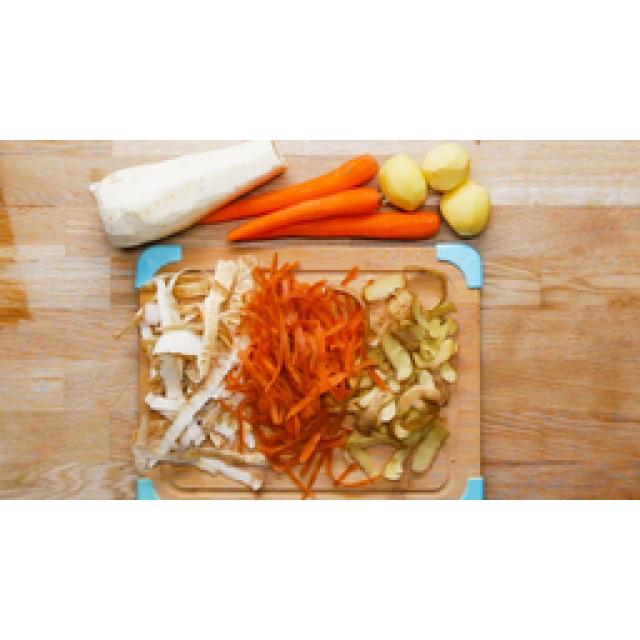food_waste: (130, 256, 455, 498), (95, 142, 488, 245)
